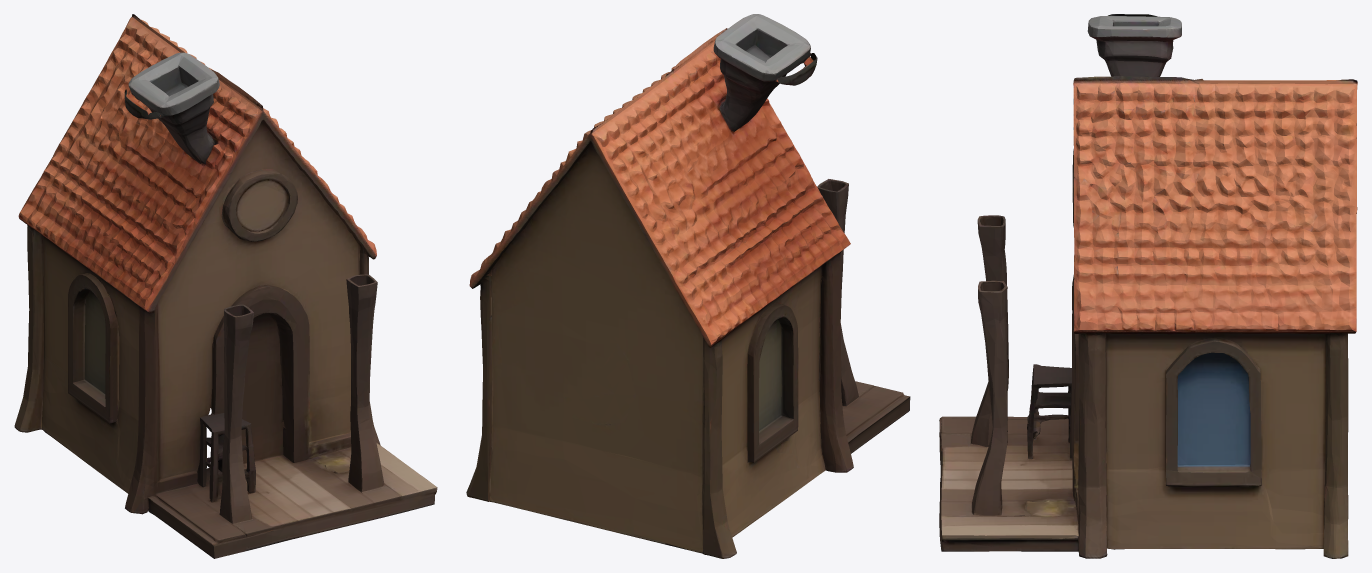
File: voxhammer_t05.glb
3 views of the same model, side by side, from view 1: azimuth 30°, elevation 25°; view 2: azimuth 150°, elevation 25°; view 3: azimuth 270°, elevation 25° (orthographic). The views are drawn at different scales.
Visible parts, largest first — view 1: geometry_0; view 2: geometry_0; view 3: geometry_0.
Boxes of the visible parts, left/top/right/bottom form: geometry_0: left=14, top=14, right=437, bottom=558; geometry_0: left=466, top=14, right=910, bottom=558; geometry_0: left=939, top=14, right=1357, bottom=558.
Bounding box in the file's own units: 0.725 × 1.13 × 0.9578.
1 material, 1 textured.
